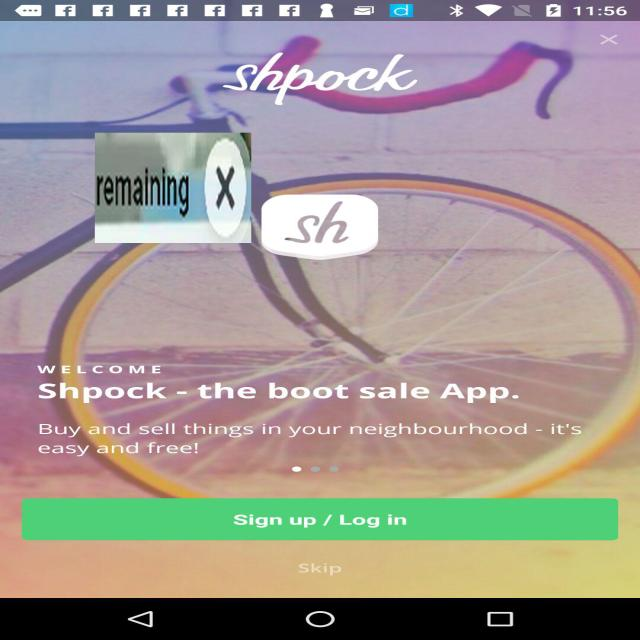misdirection: (95, 133, 251, 243)
